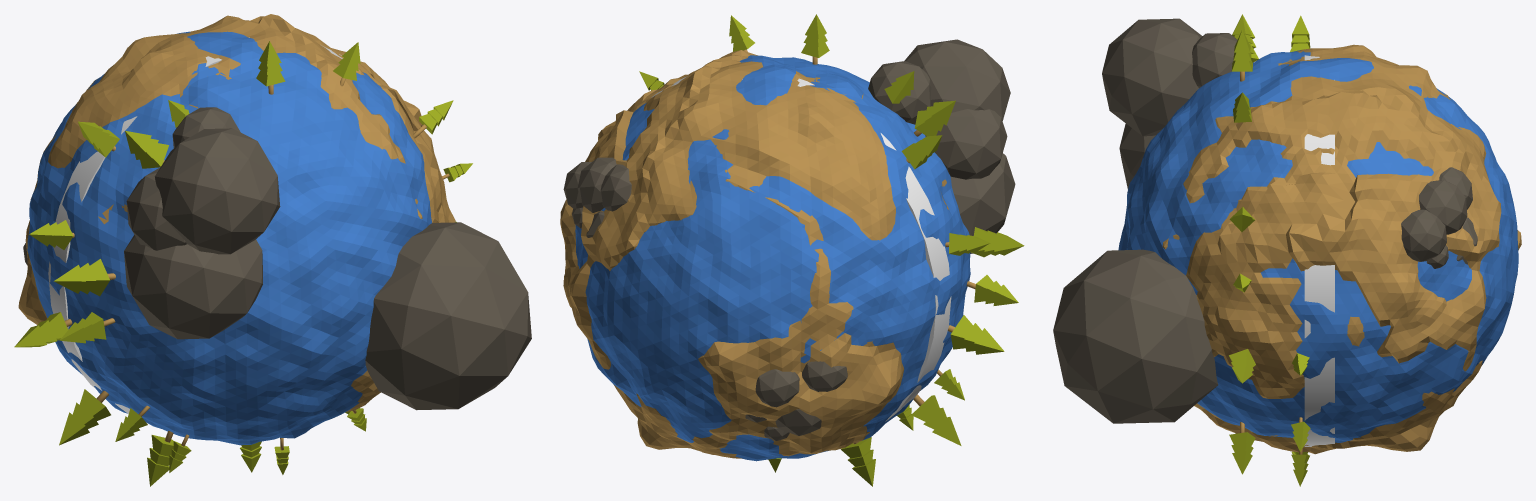
The model's file is Planeta.fbx.
3 renders of one model, left to right at view 1: azimuth 30°, elevation 25°; view 2: azimuth 150°, elevation 25°; view 3: azimuth 270°, elevation 25°, orthographic. The views are drawn at different scales.
Parts seen in each view (by area): view 1: AGUA, Montanha_grande, TERRA, ARVORES_1, ARVORES_2, PISTA_MOVIMENTO; view 2: AGUA, TERRA, Montanha_grande, ARVORES_1, ARVORES_2, PISTA_MOVIMENTO; view 3: TERRA, AGUA, Montanha_grande, PISTA_MOVIMENTO, ARVORES_1, ARVORES_2.
Part boxes in pixels (left/top/right/bottom): AGUA: left=27, top=31, right=431, bottom=445; Montanha_grande: left=124, top=107, right=531, bottom=410; TERRA: left=18, top=14, right=455, bottom=411; ARVORES_1: left=54, top=41, right=472, bottom=474; ARVORES_2: left=14, top=121, right=456, bottom=486; PISTA_MOVIMENTO: left=48, top=37, right=342, bottom=424; AGUA: left=575, top=55, right=970, bottom=461; TERRA: left=560, top=50, right=948, bottom=458; Montanha_grande: left=868, top=39, right=1015, bottom=253; ARVORES_1: left=639, top=14, right=1024, bottom=430; ARVORES_2: left=768, top=135, right=1004, bottom=486; PISTA_MOVIMENTO: left=651, top=76, right=951, bottom=421; TERRA: left=1162, top=44, right=1521, bottom=454; AGUA: left=1118, top=50, right=1518, bottom=442; Montanha_grande: left=1053, top=18, right=1237, bottom=423; PISTA_MOVIMENTO: left=1304, top=55, right=1334, bottom=446; ARVORES_1: left=1229, top=14, right=1258, bottom=474; ARVORES_2: left=1290, top=15, right=1310, bottom=486.
Bounding box in the file's own units: 242 × 237 × 230.
